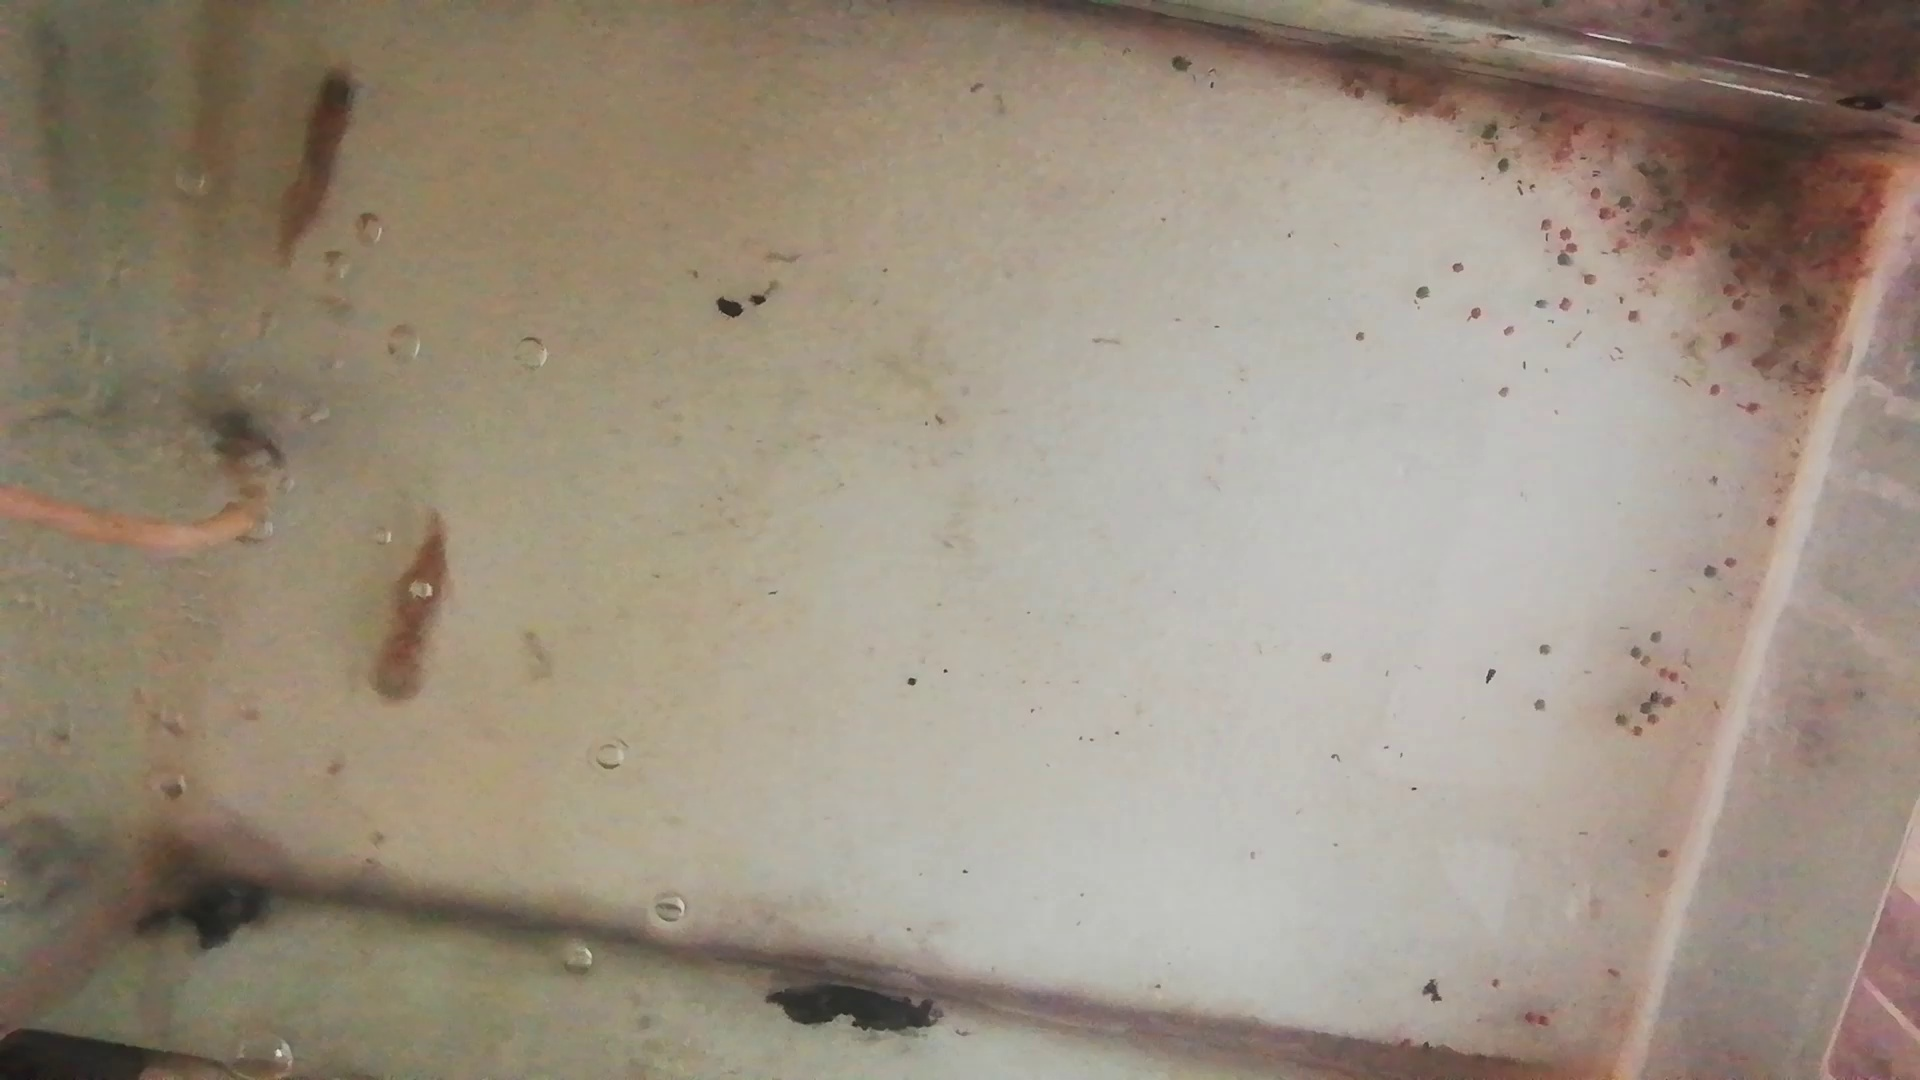fish: (277, 66, 361, 274), (375, 513, 454, 707)
